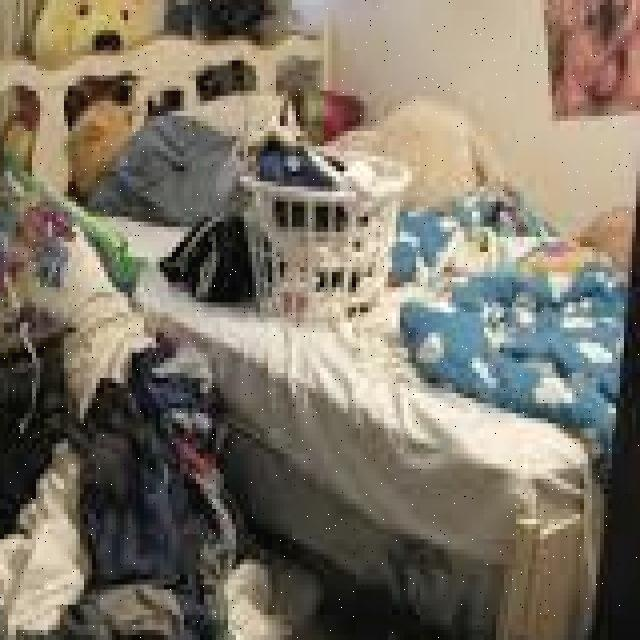bed: (48, 76, 640, 594)
